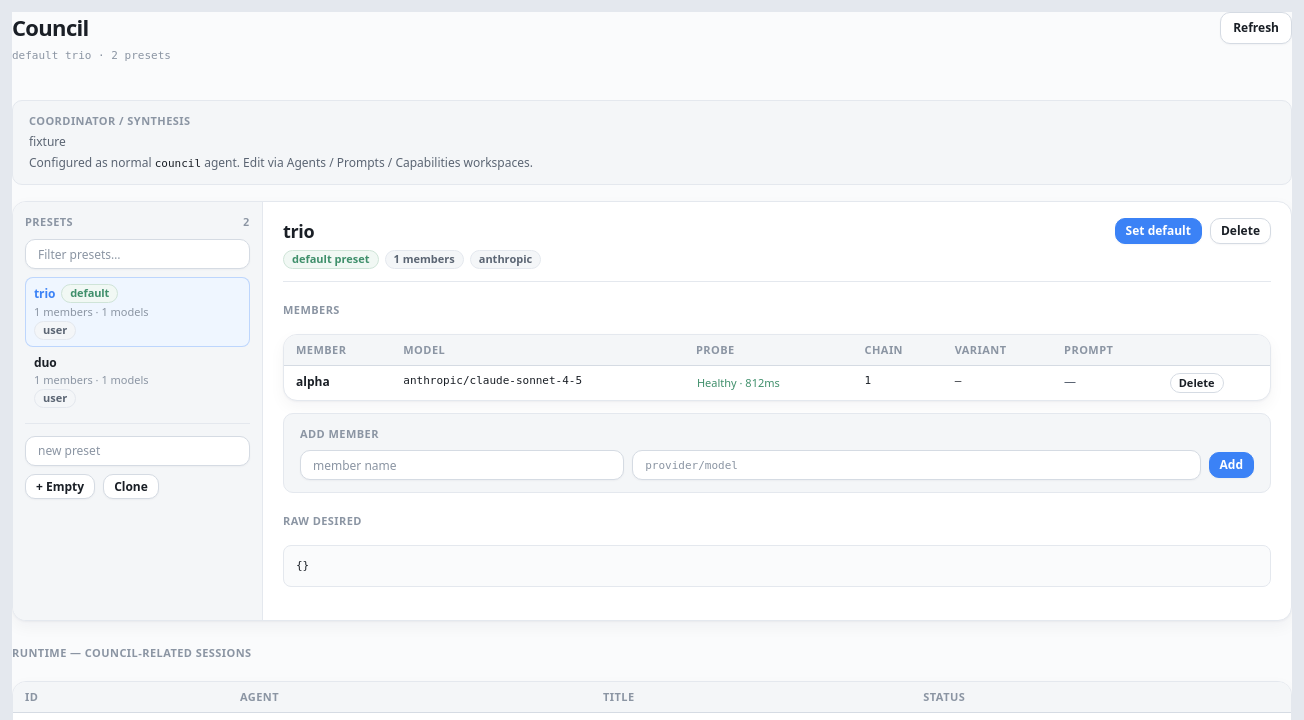
Test: probe integration — agents / council / acp / sessions (slice 15 §75) › Council members show probe badges; inactive preset rows dimmed
Expected: the text "Healthy · 812ms" is shown, [696,373,789,393]
Inactive preset: badge present but dimmed
Click the text "duo" at (45, 363), box [34,355,57,371]
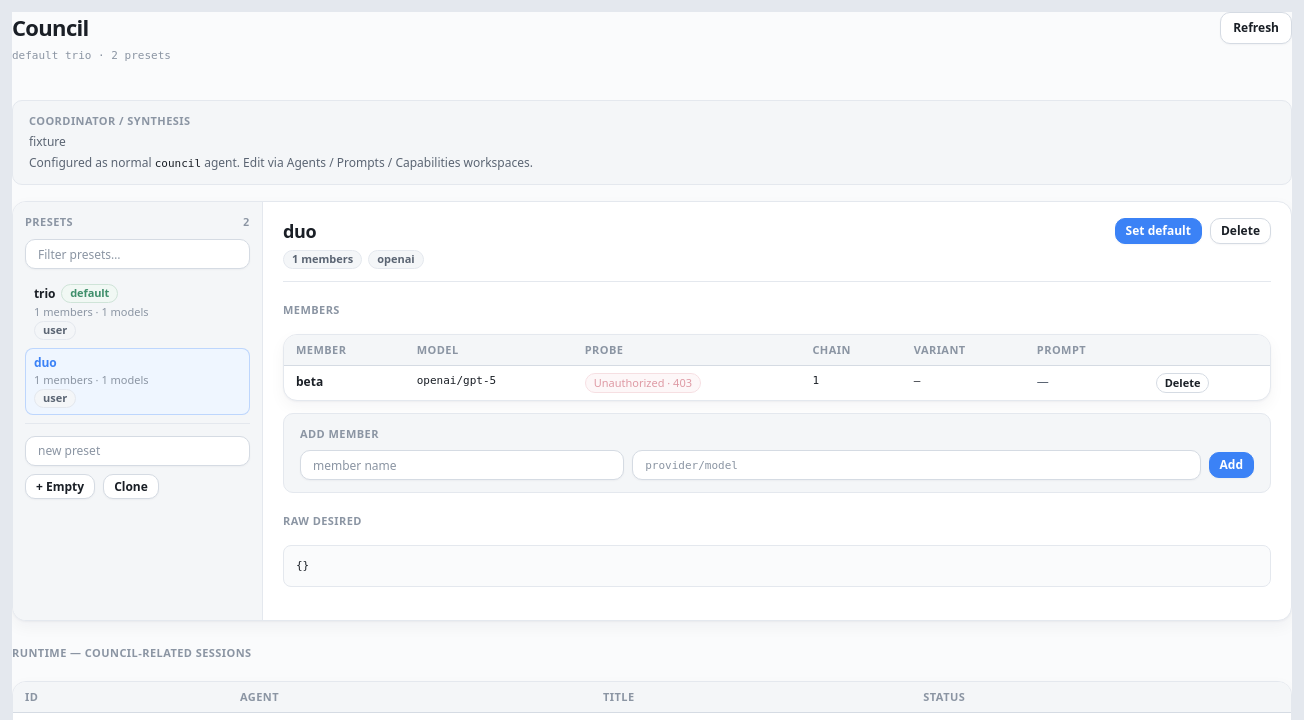
Expected: the element showing "Unauthorized · 403" is shown, [585,374,701,391]
Expected: the text "Unauthorized · 403" is shown, [585,373,701,393]
